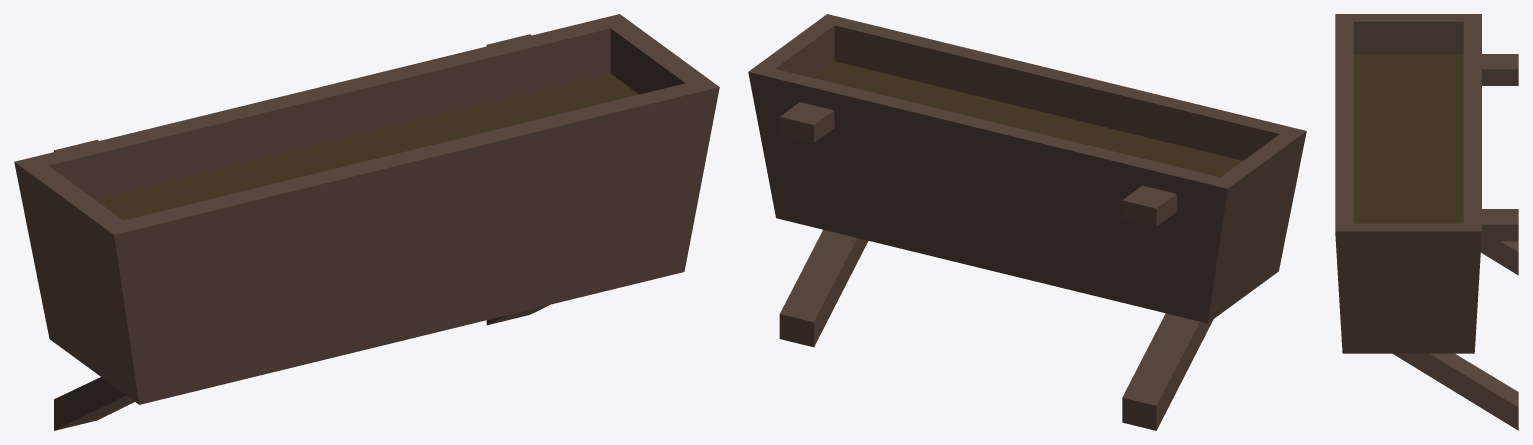
File: fantasy_planter_3.fbx
3 views of the same model, side by side, from view 1: azimuth 30°, elevation 25°; view 2: azimuth 150°, elevation 25°; view 3: azimuth 270°, elevation 25° (orthographic). The views are drawn at different scales.
Visible parts, largest first — view 1: Cube.040; view 2: Cube.040; view 3: Cube.040.
Boxes of the visible parts, bbox=[...] form: Cube.040: bbox=[14, 14, 719, 430]; Cube.040: bbox=[748, 14, 1306, 430]; Cube.040: bbox=[1335, 14, 1518, 430].
Size of the model in its own units: 140 by 67 by 50.
